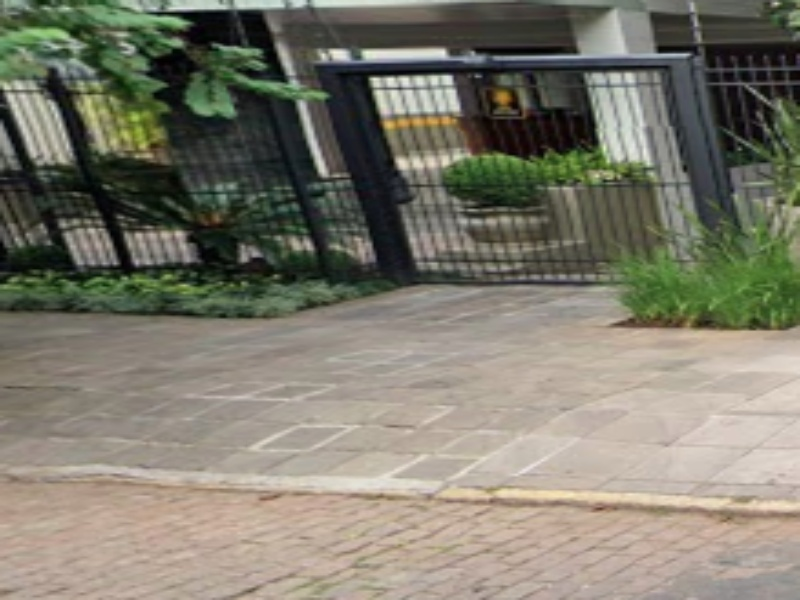g95: (3, 421, 756, 531)
